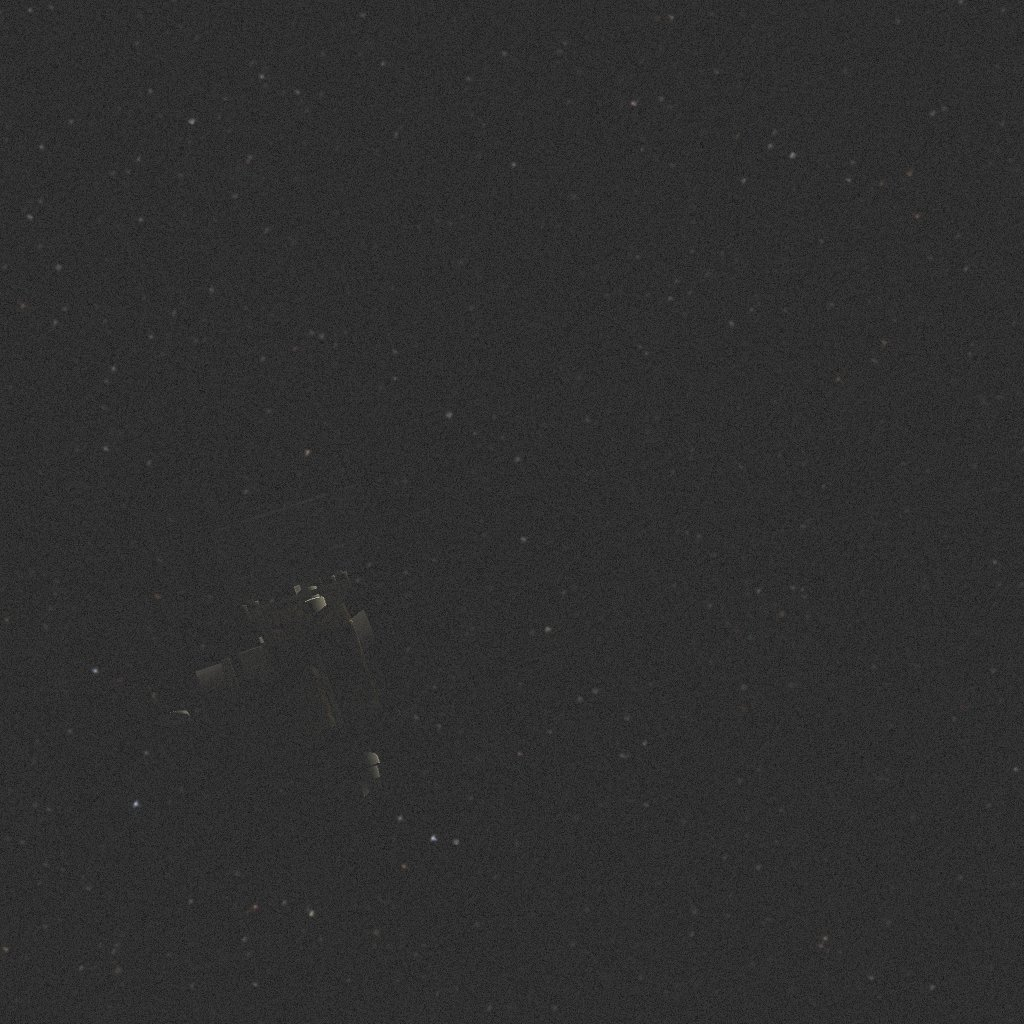earth_observation_sat_1: (157, 484, 405, 799)
